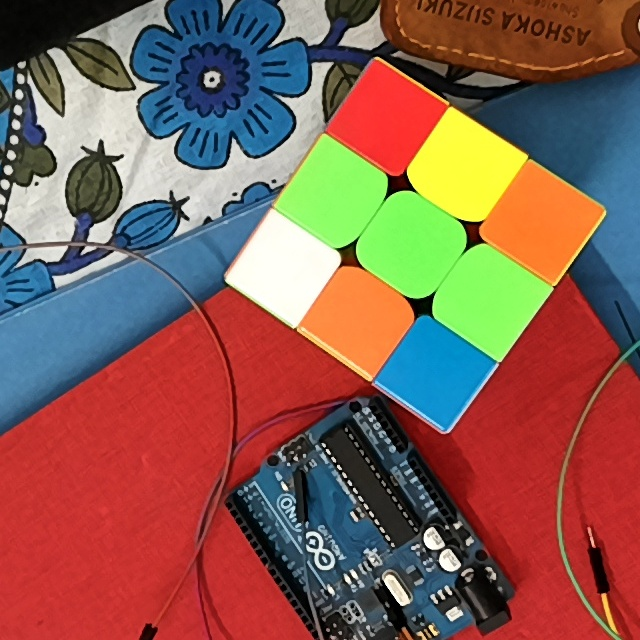tile: (379, 212, 443, 279), (455, 267, 520, 332), (510, 189, 575, 253), (431, 138, 494, 200), (326, 289, 390, 348), (403, 342, 465, 402), (357, 88, 417, 149), (306, 165, 364, 226), (256, 239, 312, 299)
